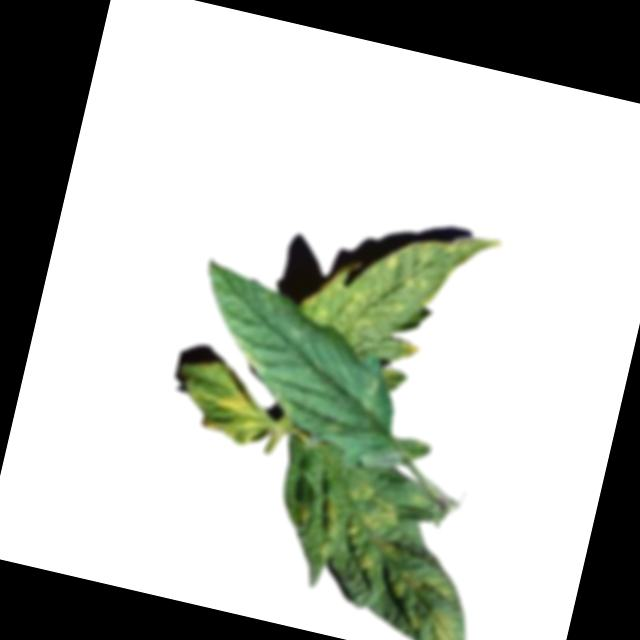Leaf_Mold: (294, 199, 505, 380), (300, 476, 495, 640), (200, 363, 280, 450), (354, 372, 389, 414)
